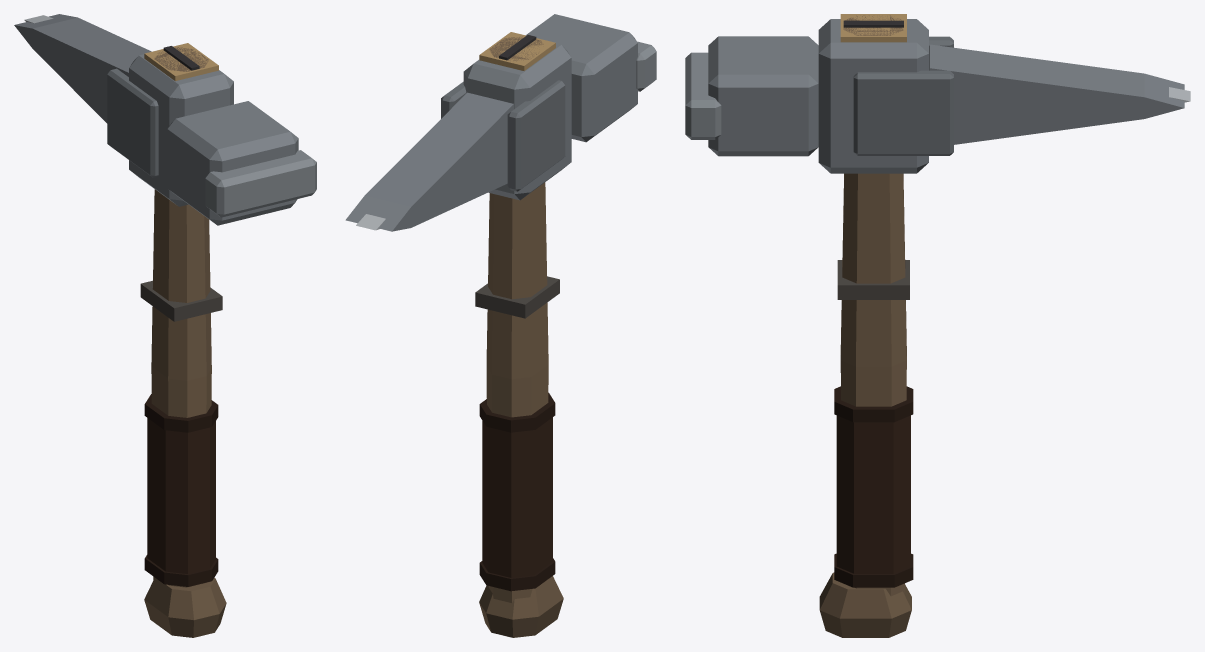
File: IronPick.glb
3 views of the same model, side by side, from view 1: azimuth 30°, elevation 25°; view 2: azimuth 150°, elevation 25°; view 3: azimuth 270°, elevation 25° (orthographic). The views are drawn at different scales.
Parts seen in each view (by area): view 1: Handle, Head; view 2: Handle, Head; view 3: Head, Handle.
Boxes of the visible parts, left/top/right/bottom form: Handle: left=140, top=43, right=226, bottom=637; Head: left=14, top=14, right=316, bottom=225; Handle: left=475, top=32, right=563, bottom=637; Head: left=345, top=14, right=656, bottom=231; Head: left=685, top=19, right=1190, bottom=173; Handle: left=819, top=14, right=913, bottom=637.
Bounding box in the file's own units: 0.62 × 3.32 × 2.52.
